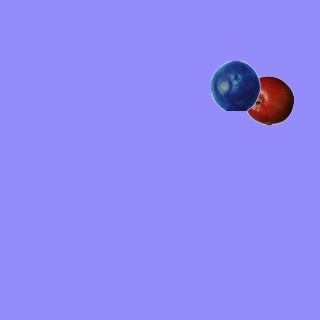Apple Braeburn: (243, 75, 293, 125)
Huckleberry: (210, 60, 260, 110)
